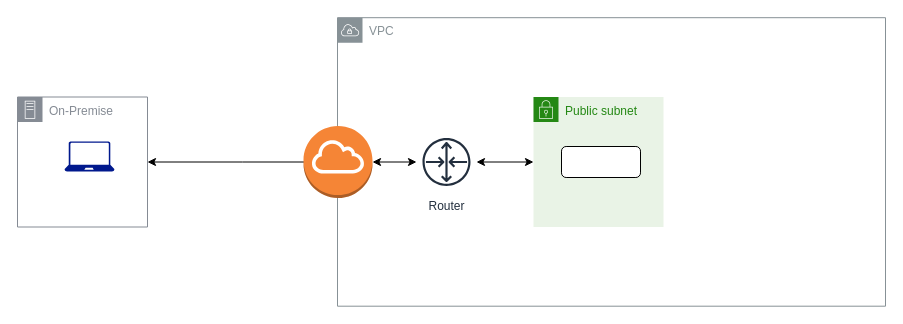
This 903x324 diagram has some shape labels left out. The centre of each missing label's shape, as x and y in pixels:
EC2 public ip: the point at 600,162
Internet Gateway: the point at 337,161
